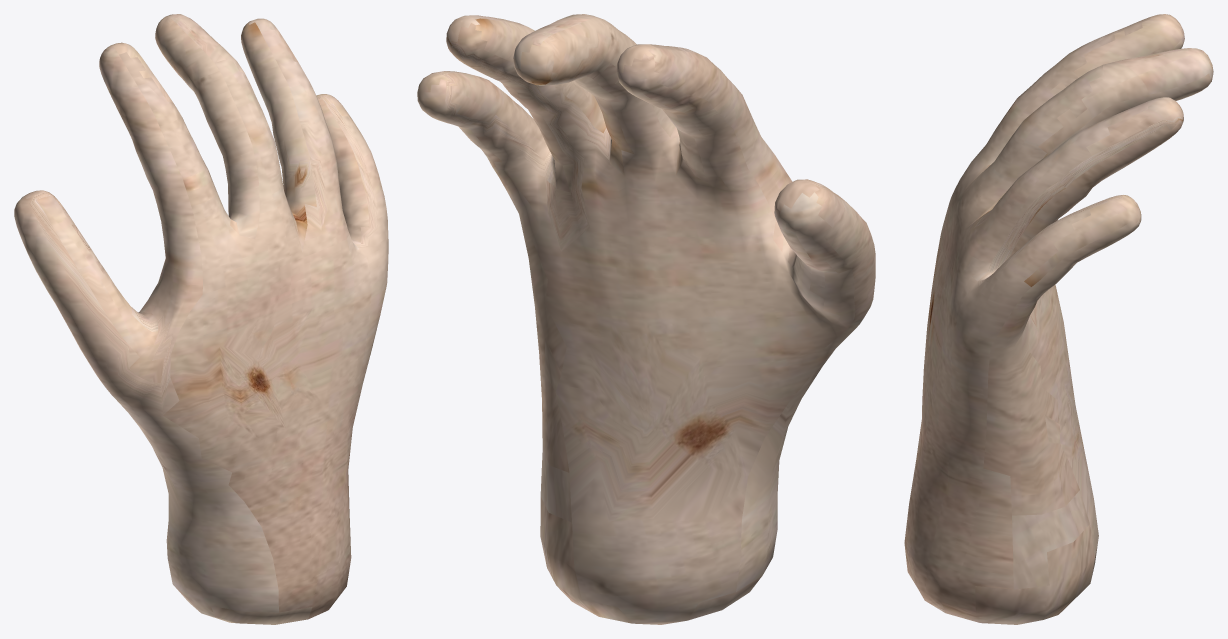
The model's file is hand2.obj.
3 renders of one model, left to right at view 1: azimuth 30°, elevation 25°; view 2: azimuth 150°, elevation 25°; view 3: azimuth 270°, elevation 25°, orthographic. The views are drawn at different scales.
Visible parts, largest first — view 1: Cube.001; view 2: Cube.001; view 3: Cube.001.
Part boxes in pixels (box(x1,y1,x2,y2)): Cube.001: box(14, 14, 388, 624); Cube.001: box(417, 14, 875, 624); Cube.001: box(904, 14, 1213, 624).
Size of the model in its own units: 3.66 by 5.59 by 2.8.
